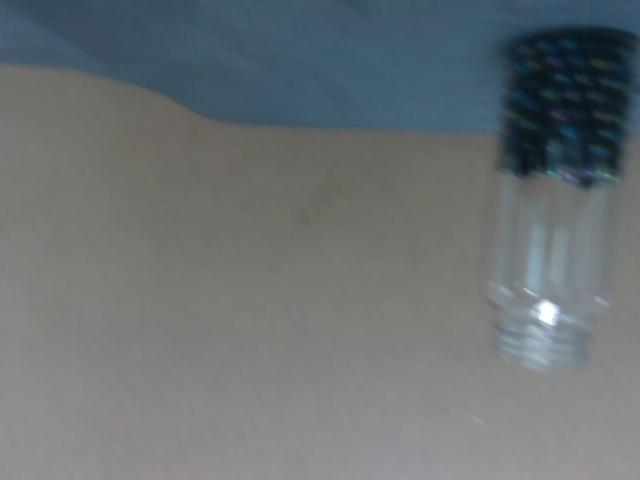black_bottle: (498, 24, 638, 189)
